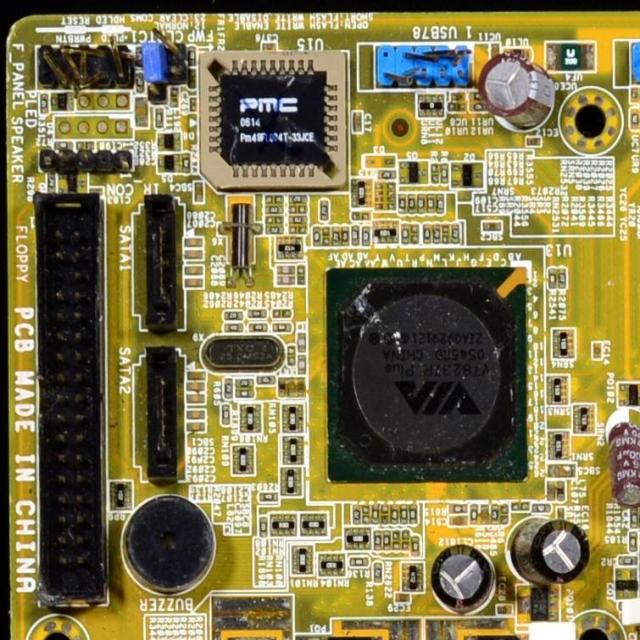IC: (314, 252, 540, 502), (200, 48, 351, 188), (634, 527, 640, 612)
capacitor: (431, 536, 500, 616), (481, 57, 553, 129), (522, 516, 586, 589), (601, 424, 640, 519), (184, 246, 207, 262), (184, 262, 206, 278), (545, 478, 559, 502), (182, 277, 204, 290), (183, 236, 203, 247)
resistor: (233, 374, 258, 391), (245, 306, 270, 322), (448, 223, 464, 247), (264, 201, 286, 218), (220, 322, 246, 336), (429, 158, 442, 184), (220, 308, 244, 322), (258, 372, 279, 388), (270, 319, 293, 333), (285, 214, 309, 227), (287, 203, 309, 217), (397, 191, 409, 216), (266, 223, 286, 238), (422, 222, 435, 245), (546, 266, 559, 289), (246, 319, 269, 332), (262, 192, 283, 206), (318, 199, 330, 223), (330, 222, 342, 246), (351, 223, 362, 249), (351, 555, 370, 570), (426, 193, 438, 216), (361, 224, 373, 247), (271, 308, 294, 320), (369, 502, 381, 525), (372, 561, 384, 584), (407, 192, 418, 216), (435, 192, 446, 216), (340, 223, 352, 245), (224, 375, 234, 401), (398, 503, 411, 523), (416, 192, 427, 215), (287, 225, 310, 236), (236, 385, 254, 399), (441, 160, 451, 185), (352, 503, 363, 525), (411, 534, 422, 556), (432, 221, 442, 245), (441, 221, 451, 244), (558, 265, 568, 288), (382, 530, 392, 552), (374, 530, 384, 552), (287, 195, 308, 205), (409, 504, 419, 524), (264, 217, 284, 226), (391, 504, 399, 526)
transistor: (446, 627, 541, 640), (277, 631, 387, 640), (226, 631, 282, 640)
